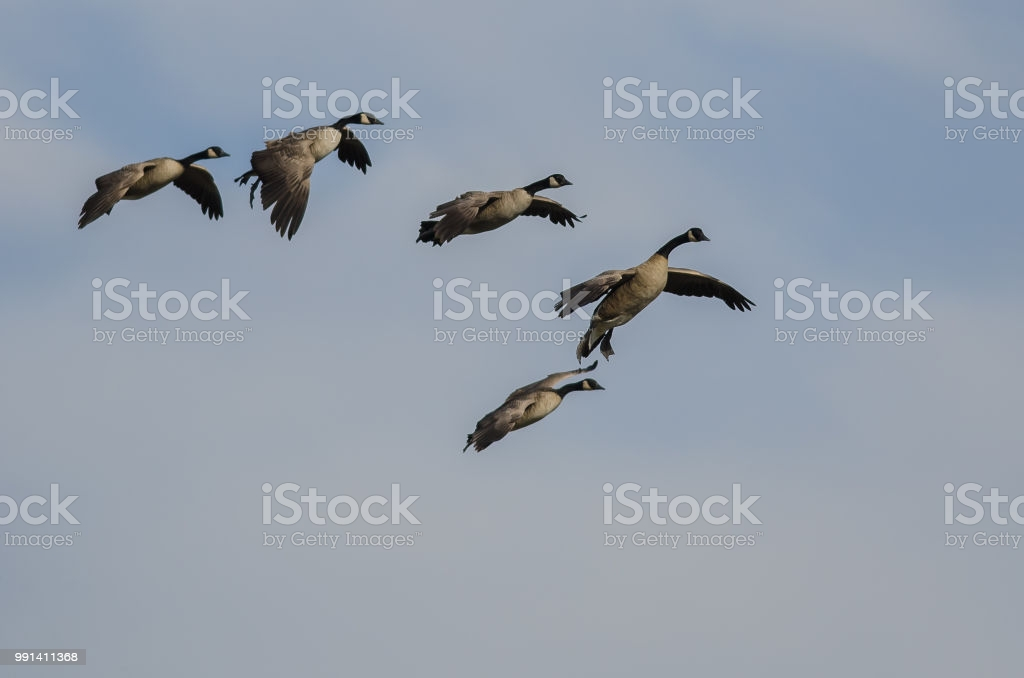goose: (552, 225, 757, 364), (233, 110, 385, 243), (414, 172, 590, 252), (76, 143, 232, 232), (461, 360, 603, 452)
